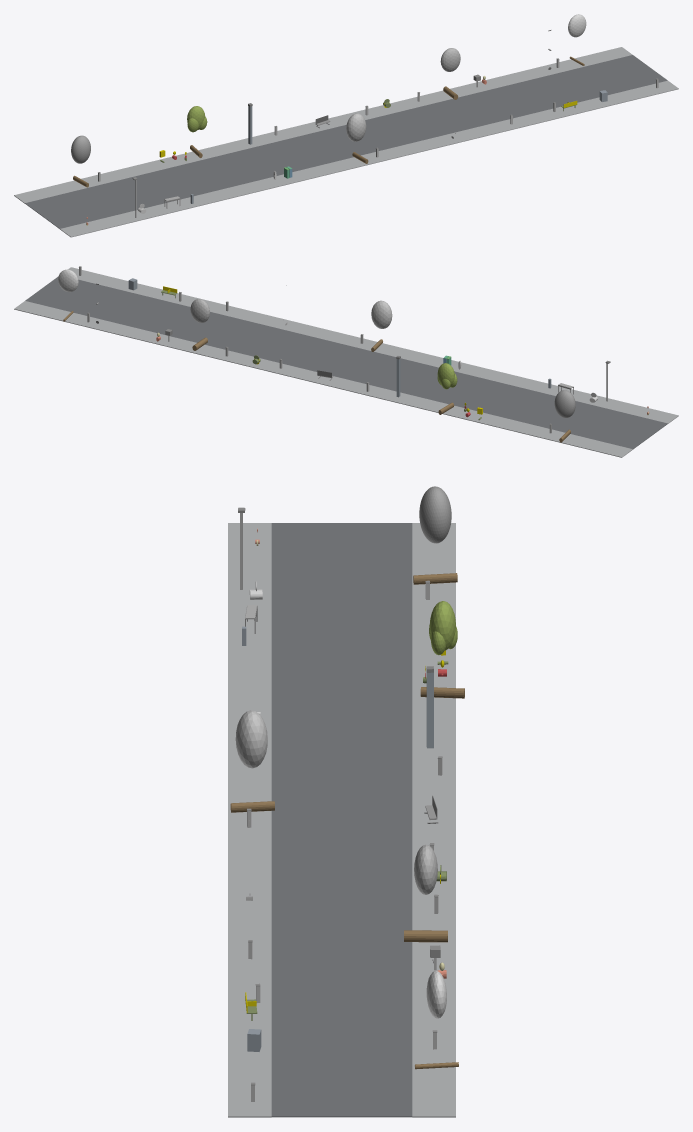
The picture shows the model from 3 angles, top to bottom: view 1: azimuth 30°, elevation 25°; view 2: azimuth 150°, elevation 25°; view 3: azimuth 270°, elevation 25°; orthographic projection. The views are drawn at different scales.
Parts seen in each view (by area): view 1: road_slab, sidewalk_left, sidewalk_right, inst_0014, inst_0012, inst_0013, inst_0015, inst_0016; view 2: road_slab, sidewalk_right, sidewalk_left, inst_0014, inst_0012, inst_0013, inst_0015, inst_0016; view 3: road_slab, sidewalk_left, sidewalk_right, inst_0014, inst_0012, inst_0013, inst_0015, inst_0016.
Part boxes in pixels (left/top/right/bottom): road_slab: left=25, top=55, right=667, bottom=228; sidewalk_left: left=60, top=80, right=678, bottom=237; sidewalk_right: left=14, top=47, right=632, bottom=203; inst_0014: left=346, top=113, right=368, bottom=163; inst_0012: left=71, top=135, right=90, bottom=187; inst_0013: left=187, top=106, right=207, bottom=157; inst_0015: left=440, top=48, right=460, bottom=99; inst_0016: left=568, top=14, right=586, bottom=65; road_slab: left=25, top=277, right=667, bottom=449; sidewalk_right: left=14, top=301, right=632, bottom=457; sidewalk_left: left=68, top=267, right=678, bottom=423; inst_0014: left=371, top=300, right=392, bottom=351; inst_0012: left=554, top=390, right=575, bottom=442; inst_0013: left=437, top=363, right=457, bottom=414; inst_0015: left=190, top=299, right=209, bottom=350; inst_0016: left=58, top=269, right=78, bottom=321; road_slab: left=271, top=523, right=412, bottom=1117; sidewalk_left: left=228, top=523, right=271, bottom=1117; sidewalk_right: left=412, top=523, right=455, bottom=1117; inst_0014: left=230, top=710, right=274, bottom=812; inst_0012: left=413, top=486, right=457, bottom=584; inst_0013: left=420, top=601, right=464, bottom=698; inst_0015: left=404, top=845, right=447, bottom=942; inst_0016: left=415, top=971, right=458, bottom=1069.
Size of the model in its own units: 80 by 6.08 by 13.51.
